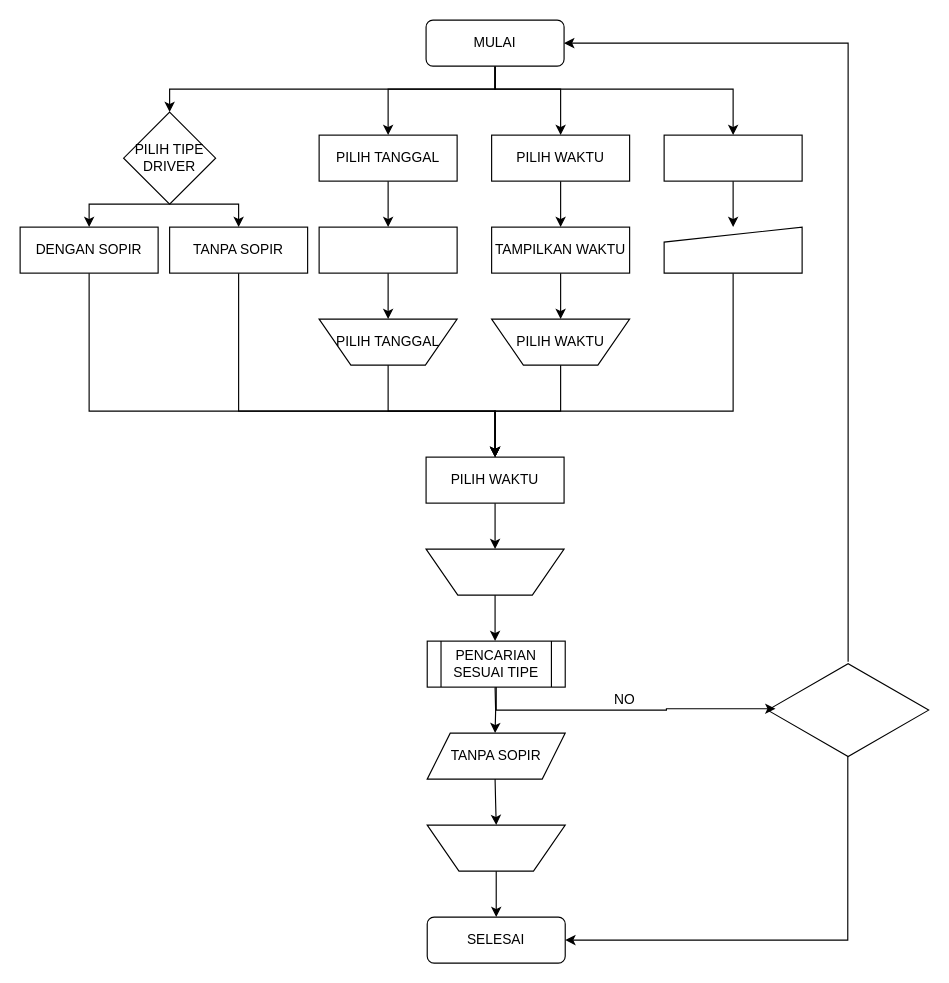
The diagram is 949 pixels wide and 983 high, and some of its shapes have lost their labels. The shapes that lost their labels are listed below. From the top down, each one's box as (x1, y1, x2, y2) in pixels, then its label:
(663, 134, 802, 181): JUMLAH PENUMPANG
(318, 226, 457, 273): TAMPILKAN KALENDER
(663, 226, 802, 273): INPUT MANUAL
(425, 548, 564, 595): CARI MOBIL
(766, 661, 929, 758): NOT FOUND
(426, 824, 565, 871): PILIH MOBIL
